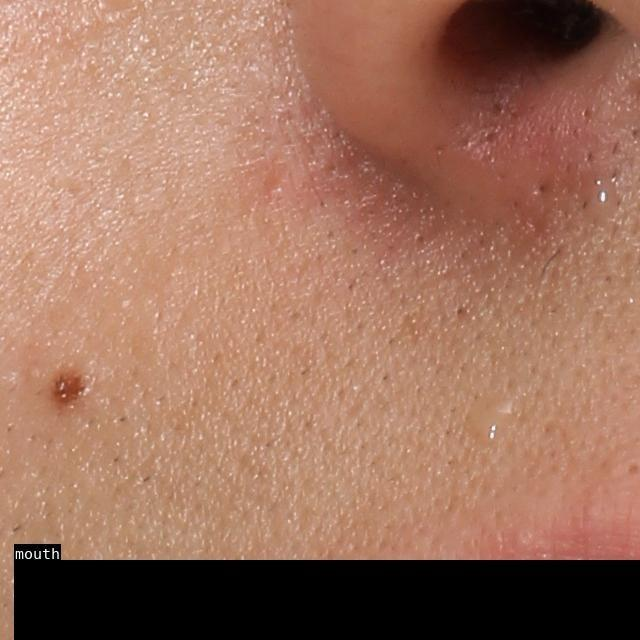nevus: (49, 364, 88, 409)
